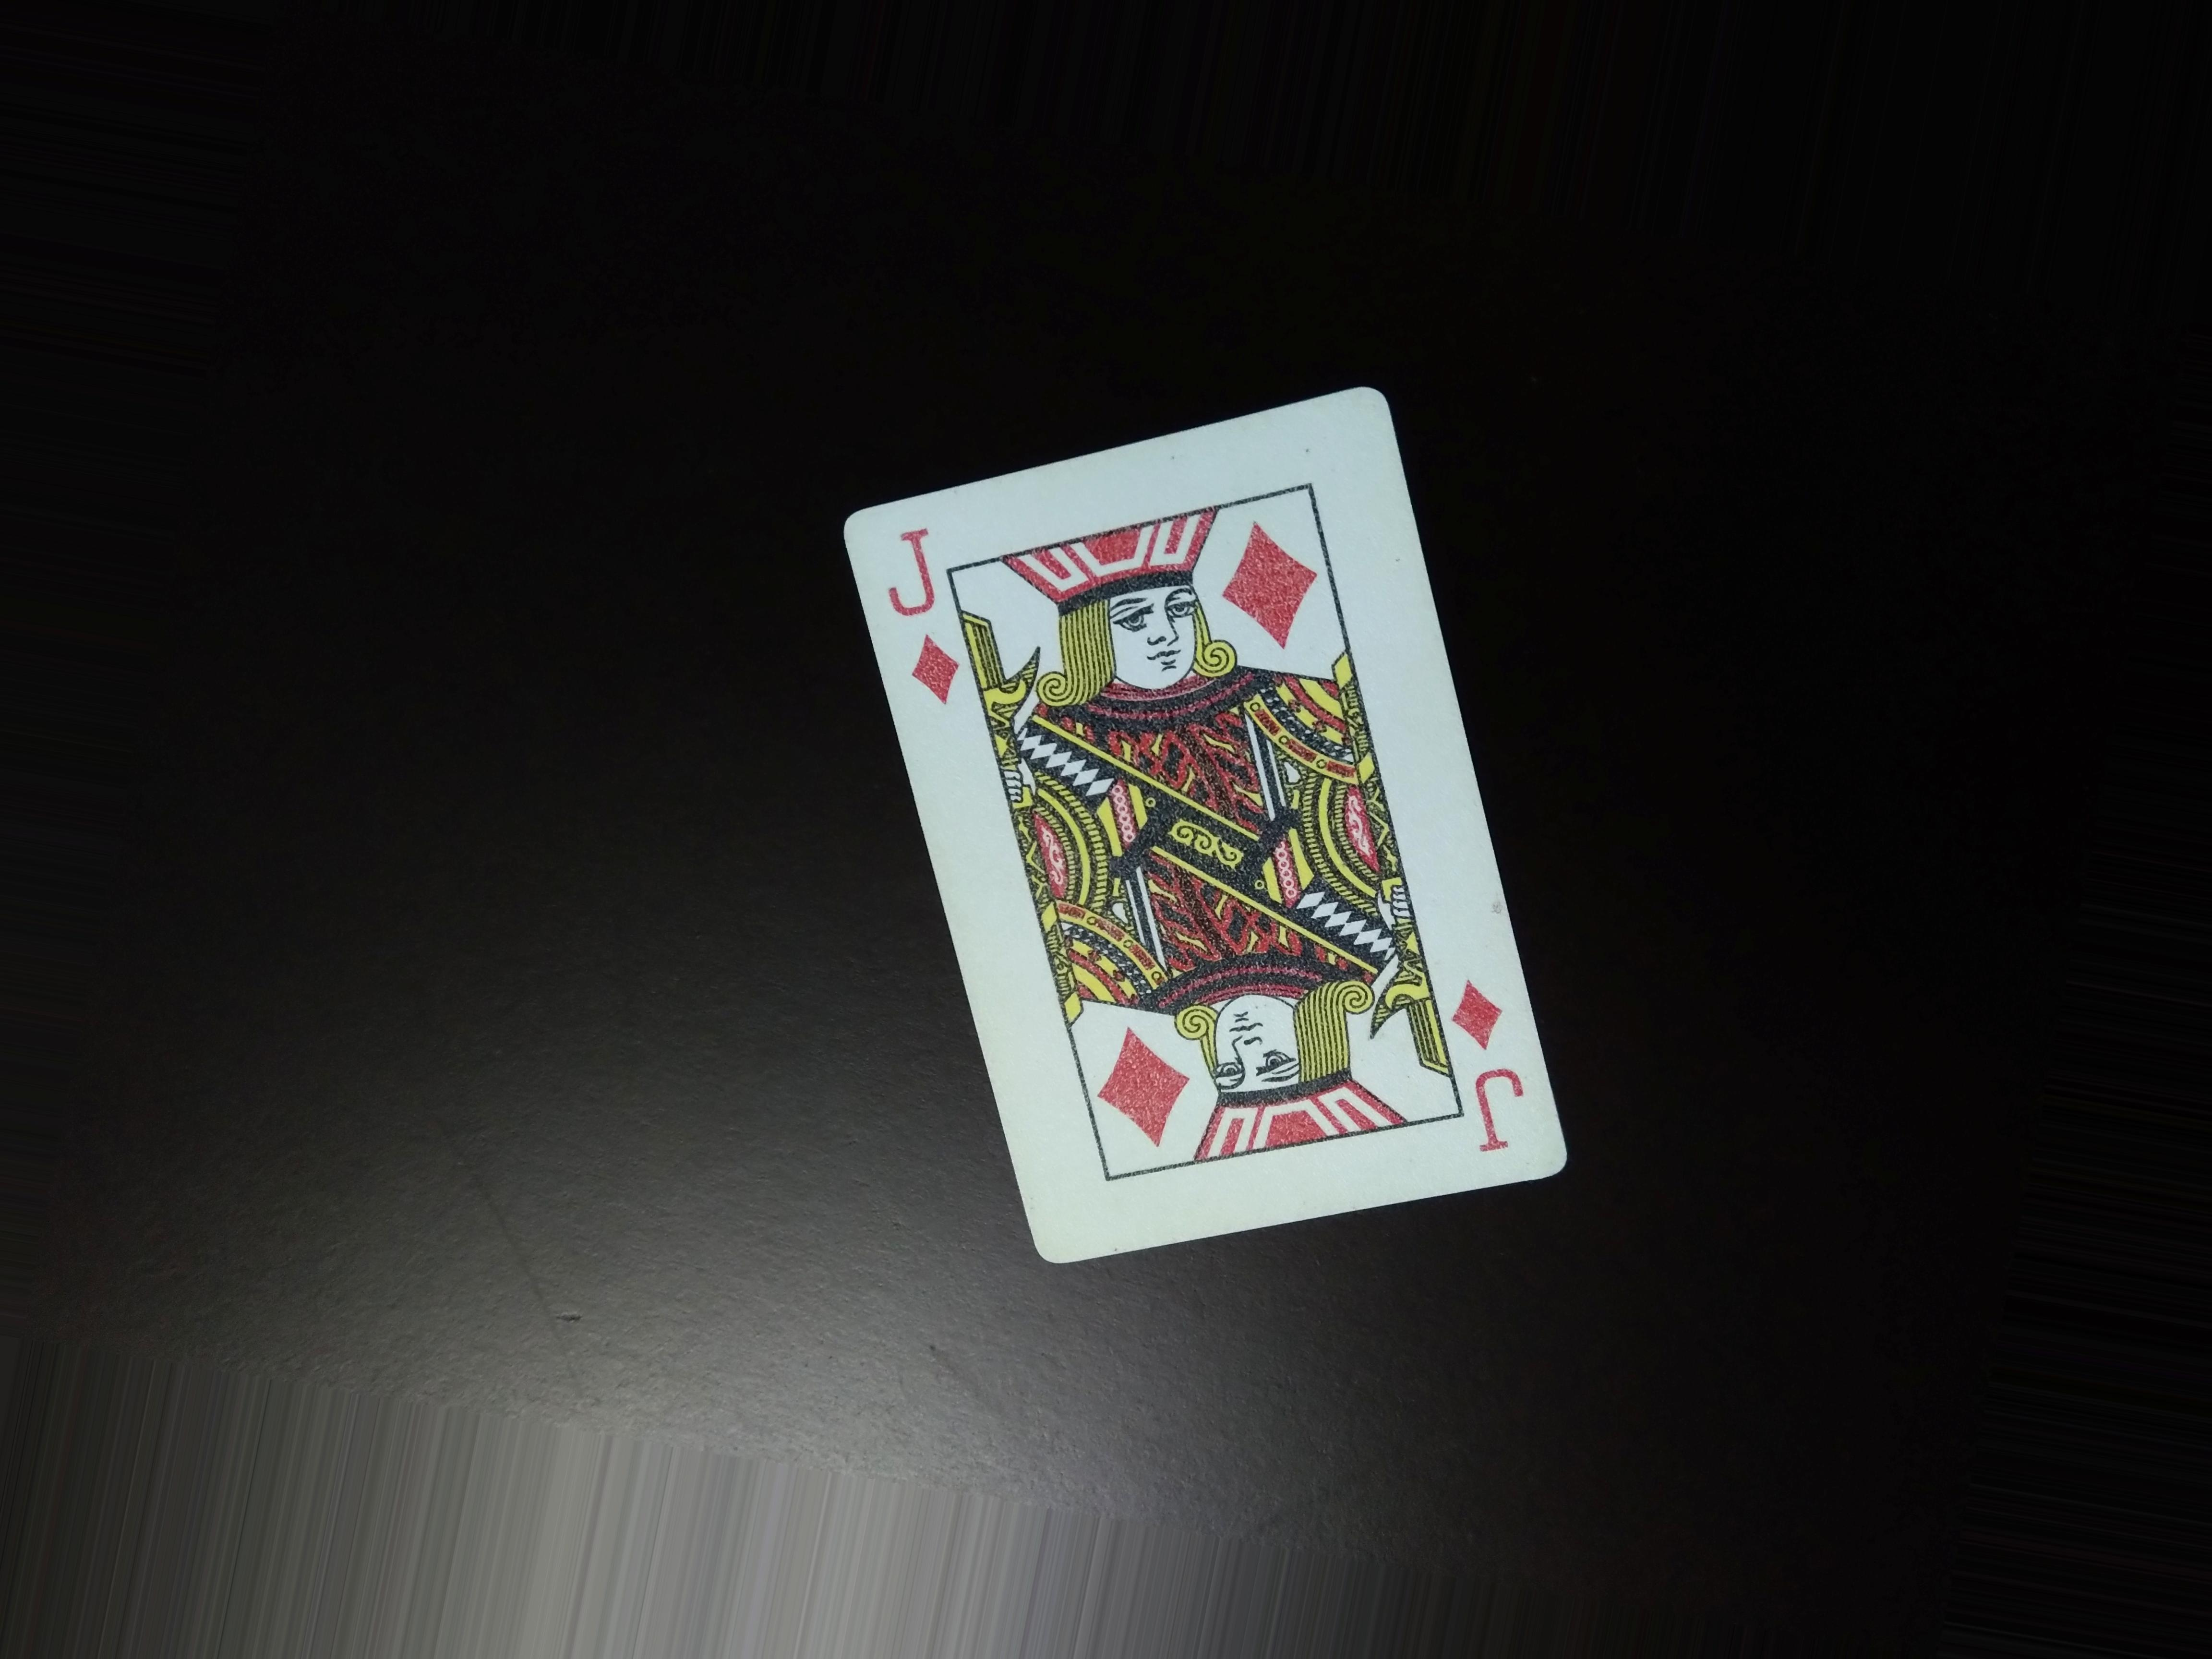JD: (888, 518, 958, 753)
